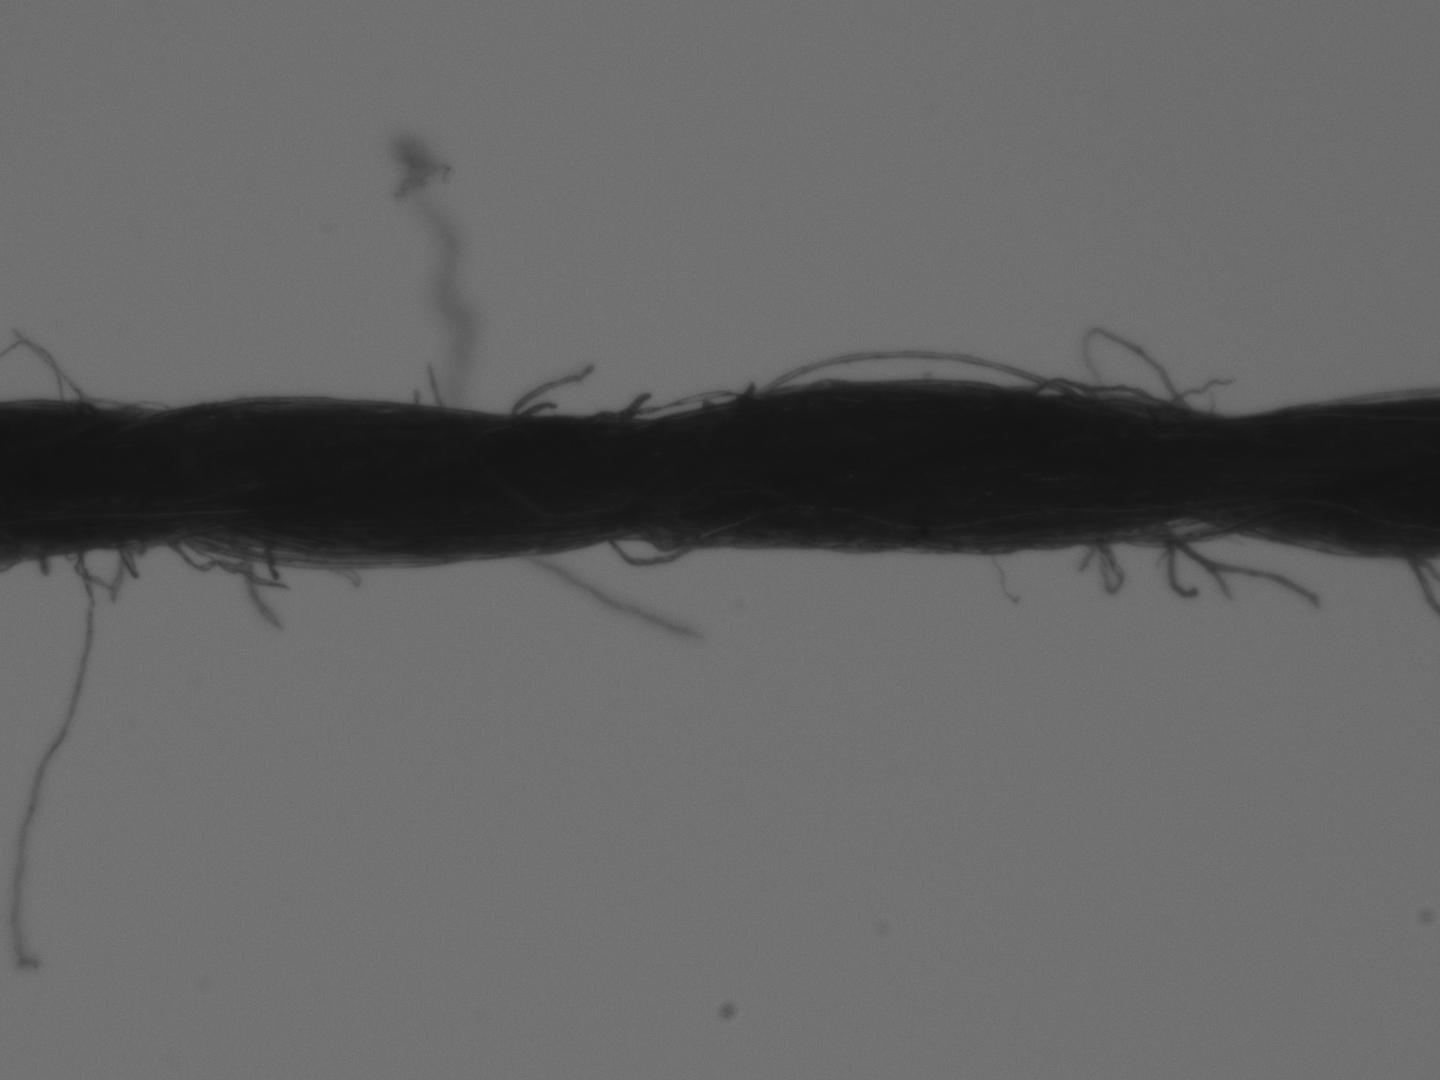loop_fiber: (754, 345, 1078, 405), (1119, 506, 1277, 548), (68, 542, 150, 601), (1027, 380, 1196, 408), (600, 386, 737, 419), (605, 538, 694, 569)
protruding_fiber: (6, 547, 100, 977), (515, 542, 705, 642), (502, 356, 598, 417)
